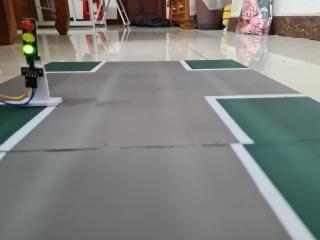green: (13, 11, 46, 76)
